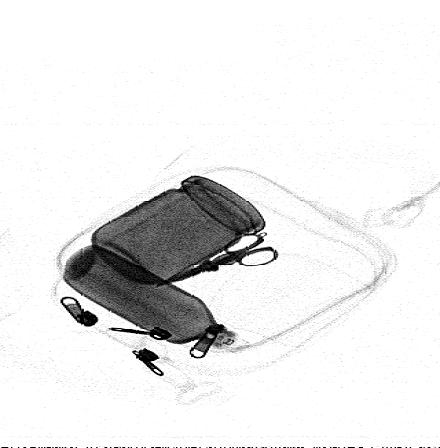Scissors: (154, 230, 283, 283)
